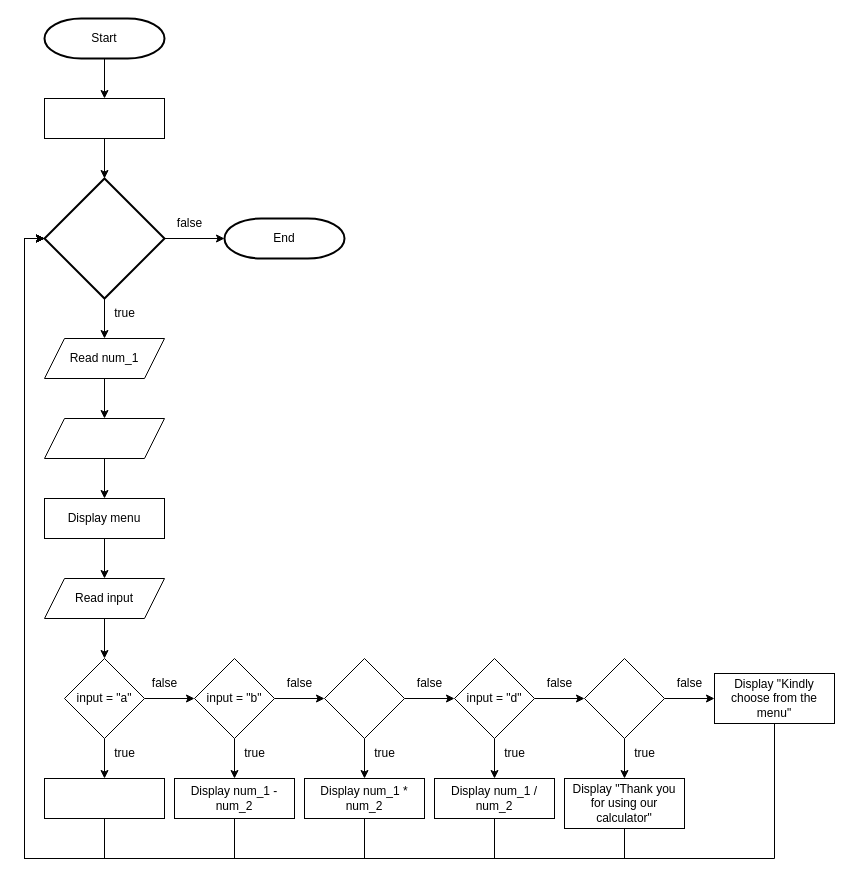
The diagram is 852 pixels wide and 884 high, and some of its shapes have lost their labels. The shapes that lost their labels are listed below. From the top down, each one's box as (x1, y1, x2, y2) in pixels, then its label:
(44, 98, 164, 138): Initialize input, num_1, num_2
(43, 177, 165, 299): input != "e"
(44, 418, 164, 458): Read num_2
(324, 658, 404, 738): input = "c"
(584, 658, 664, 738): input = "e"
(44, 778, 164, 818): Display num_1 + num_2
